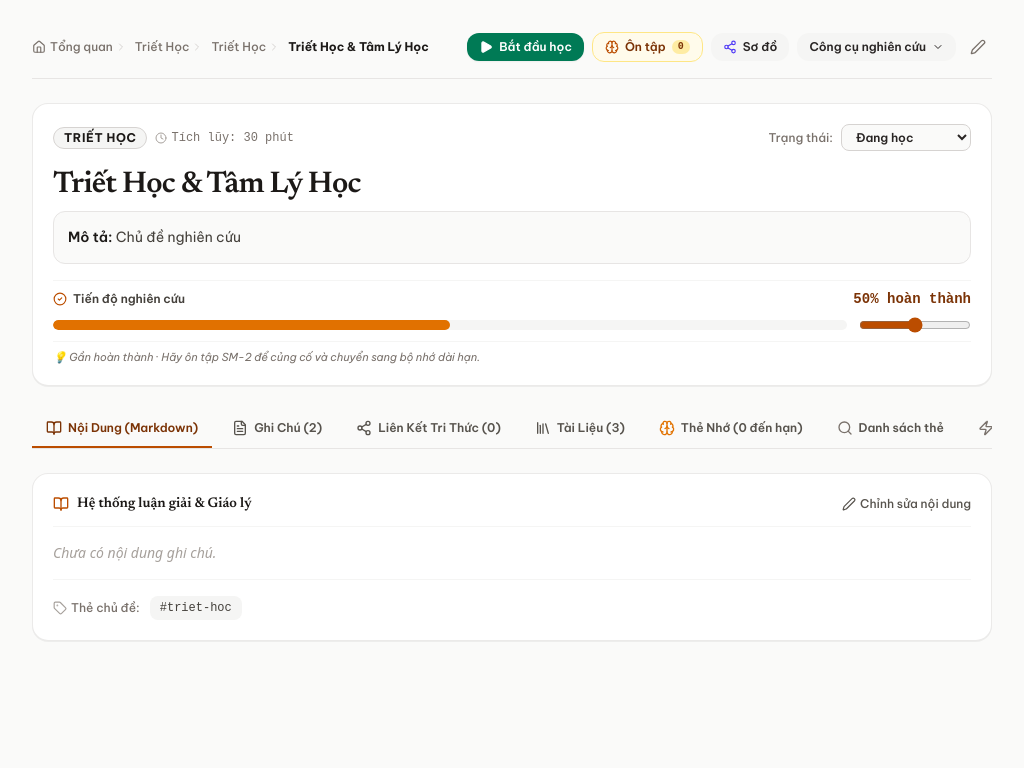
Test case: Phase 20: Global Citation Navigation & Reader Orchestration Integration › B. External Citation Surfaces Use Phase 19 5-Tier Resolver › B1. TopicDetail NoteReaderModal resolves alias vault path citation using 5-tier engine
This screenshot has width=1024, height=768.
# Switch to notes tab
Click the button with test id "tab-btn-notes" at (277, 429), box left=218, top=410, right=336, bottom=448
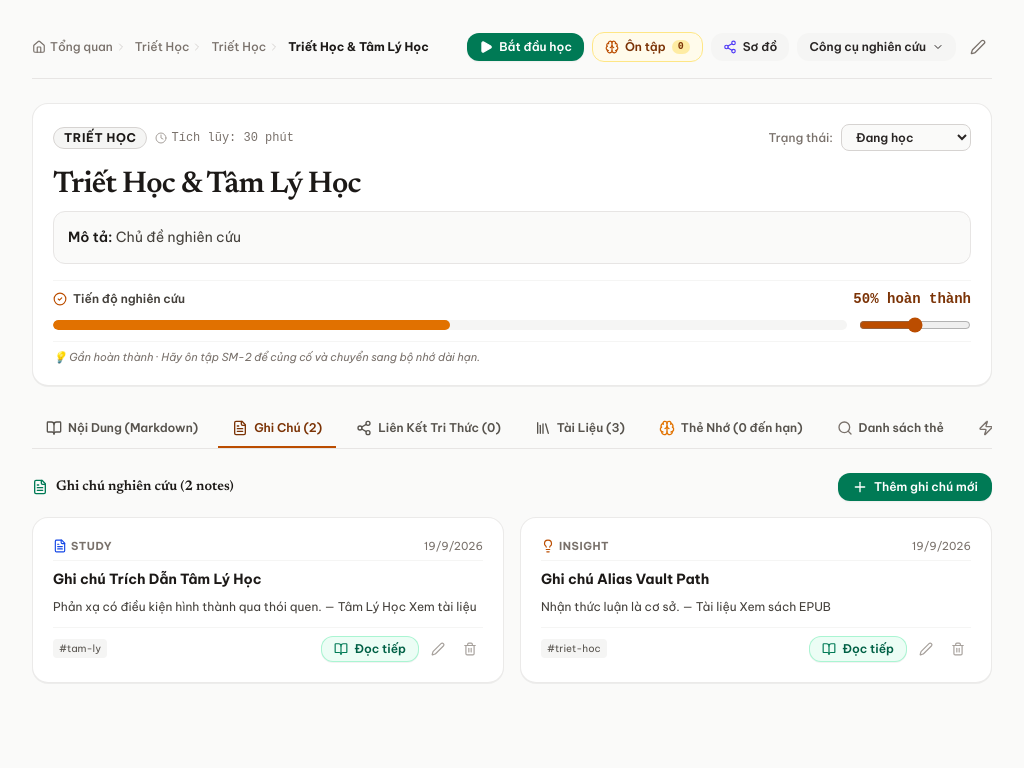
Click the button with aria-label "Đọc tiếp ghi chú Ghi chú Alias Vault Path" at (858, 649), box left=810, top=636, right=907, bottom=662
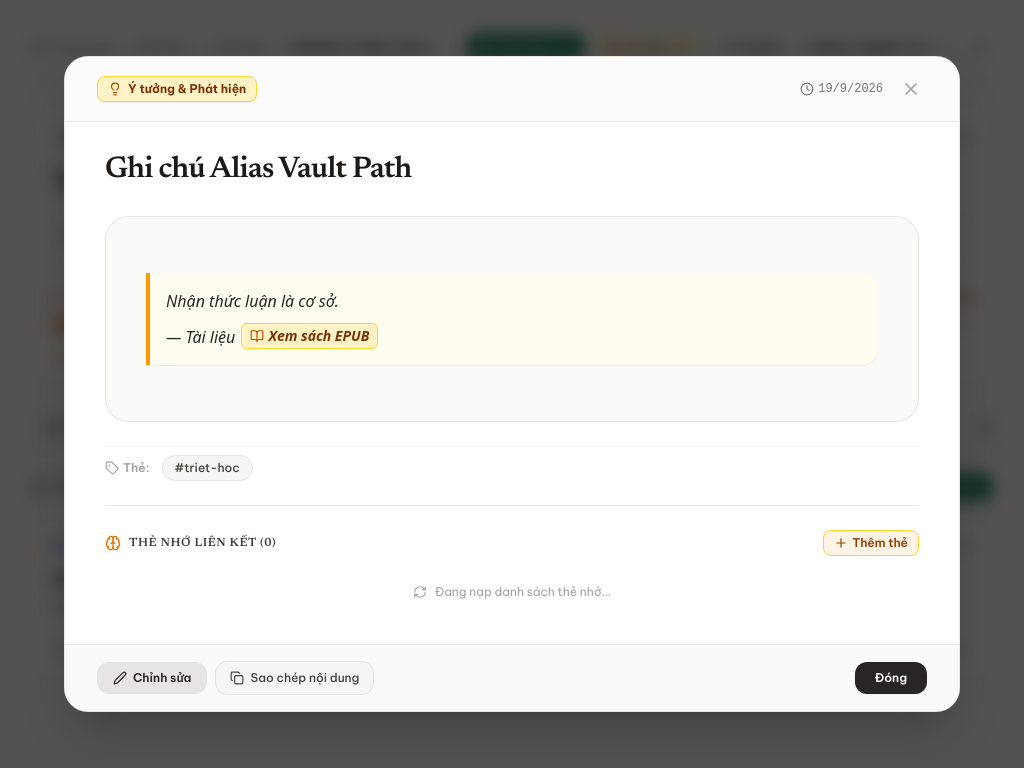
# Click citation link
Click the link "Xem sách EPUB" at (310, 336), box left=242, top=323, right=378, bottom=349
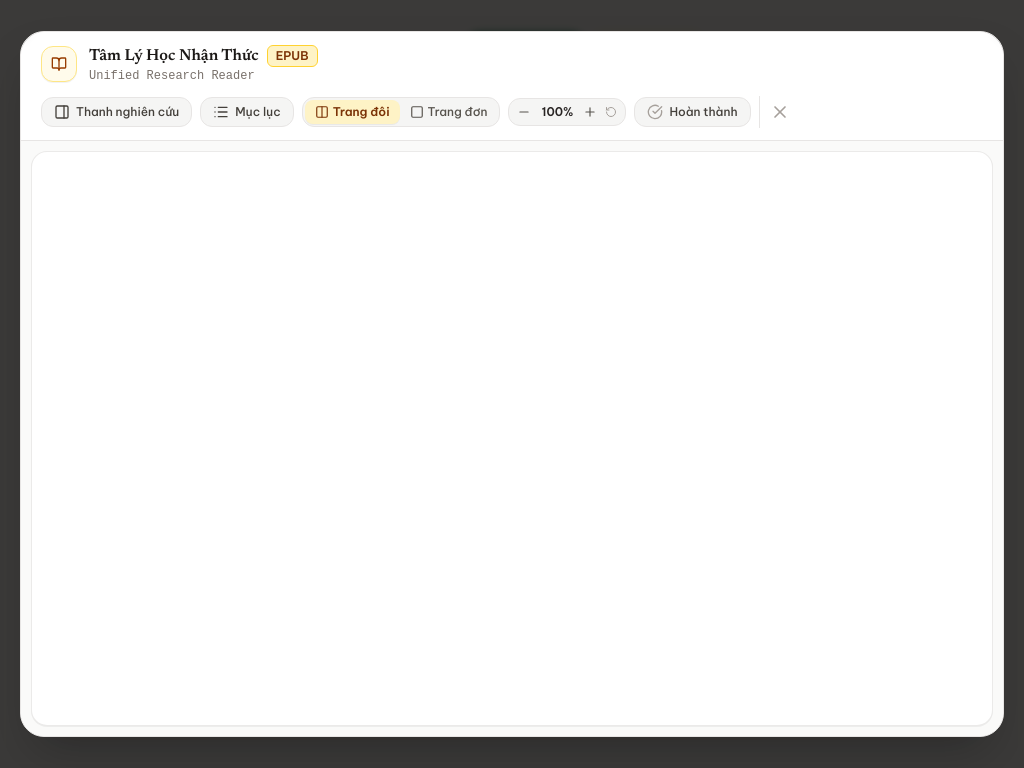
Expected: the dialog "Tâm Lý Học Nhận Thức" is shown
